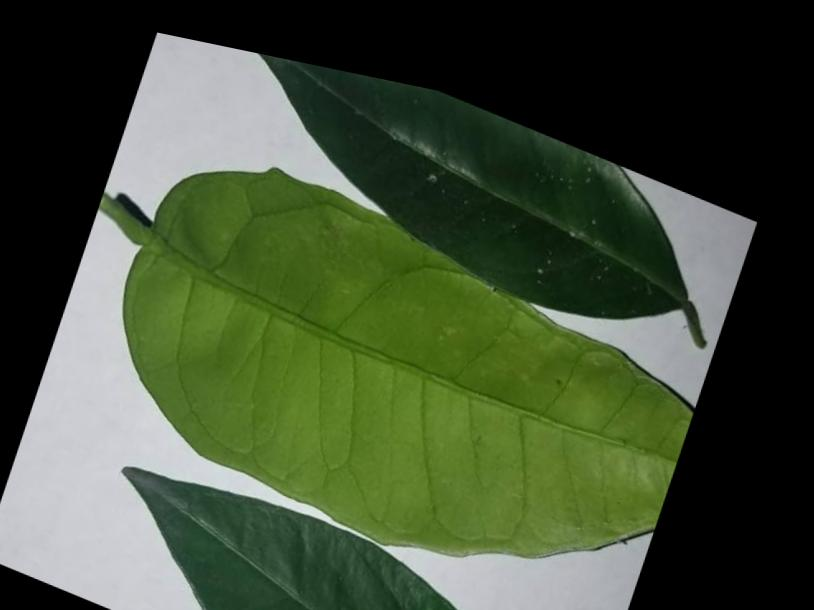Healthy Citrus: (79, 103, 732, 610), (216, 39, 730, 328), (81, 429, 590, 610)
